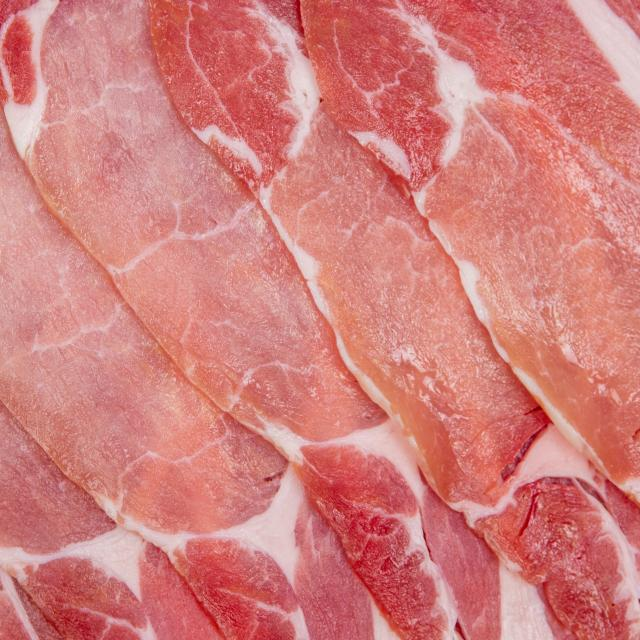Pork: (0, 0, 547, 640), (145, 0, 640, 639), (303, 0, 640, 507)
